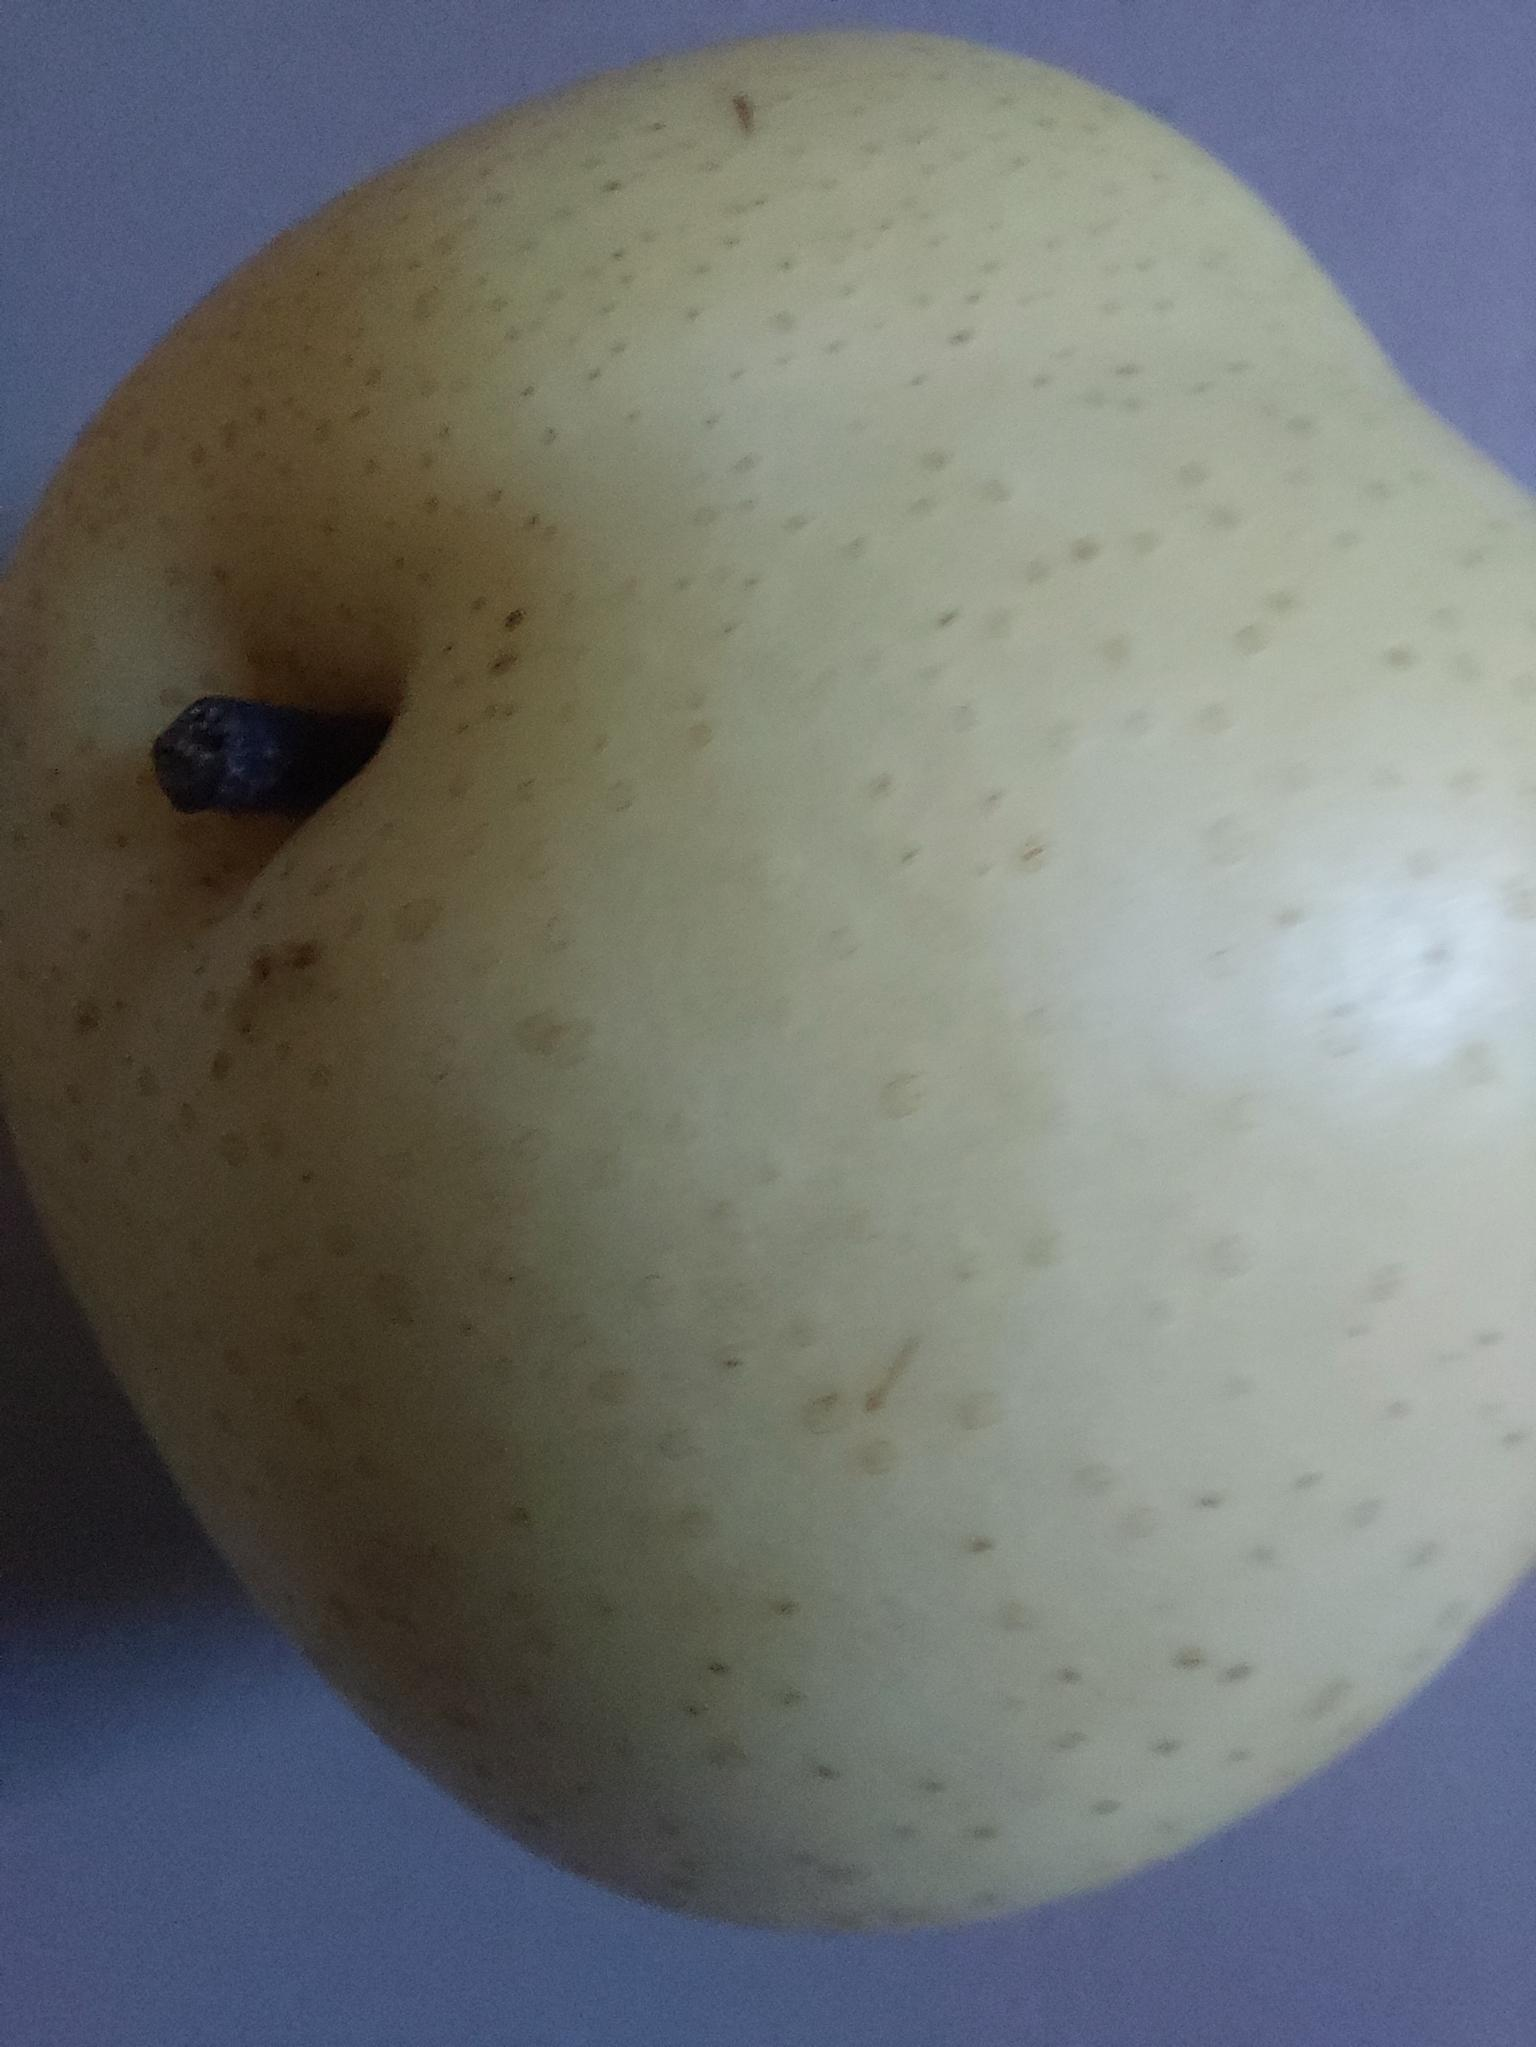Good Pear: (0, 0, 1536, 1970)
